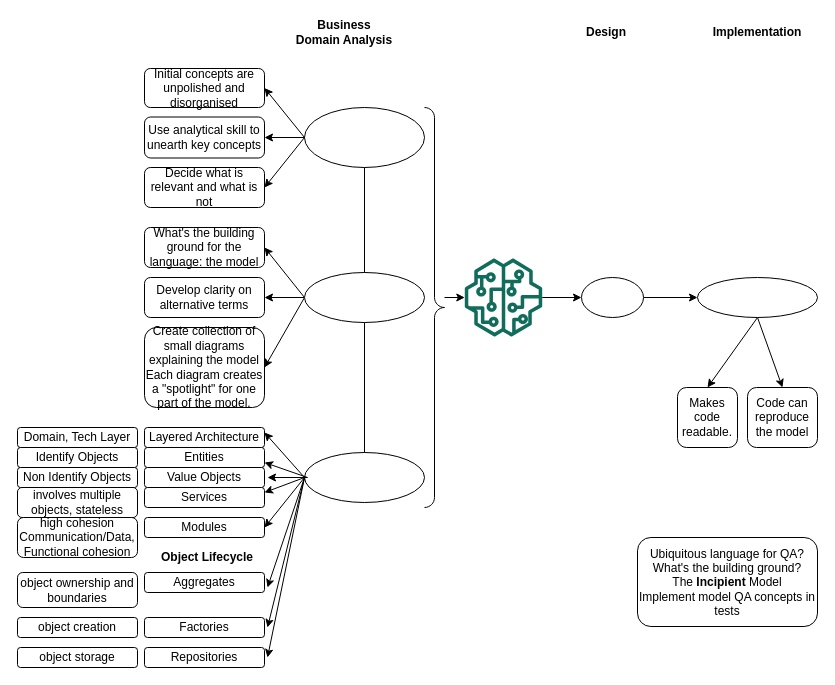
Some shapes in this 835 by 685 pixel diagram are drawn without their labels. The box of each missing label's shape, as (x1, y1, x2, y2) in pixels:
Analysis Model: (464, 258, 542, 336)
Building Blocks of Model Drive Design: (304, 452, 424, 502)
Building Domain Knowledge: (304, 106, 424, 168)
Developing the ubiquitous language: (304, 272, 424, 322)
Implement model concepts in code: (696, 276, 818, 318)
